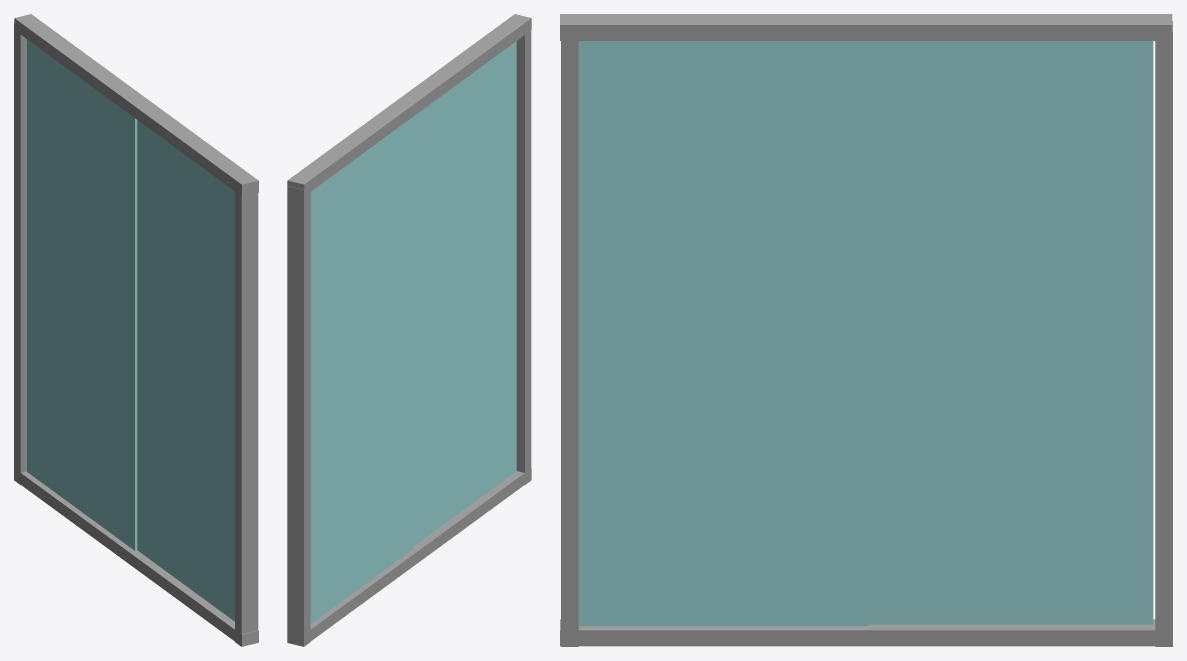
The model's file is window.fbx.
3 views of the same model, side by side, from view 1: azimuth 30°, elevation 25°; view 2: azimuth 150°, elevation 25°; view 3: azimuth 270°, elevation 25° (orthographic). The views are drawn at different scales.
Visible parts, largest first — view 1: Cube, Cube.001, Cube.003; view 2: Cube, Cube.001, Cube.003; view 3: Cube.001, Cube, Cube.003.
Boxes of the visible parts, left/top/right/bottom form: Cube: left=27, top=39, right=137, bottom=550; Cube.001: left=137, top=120, right=234, bottom=621; Cube.003: left=14, top=14, right=258, bottom=646; Cube: left=310, top=117, right=413, bottom=623; Cube.001: left=413, top=41, right=516, bottom=546; Cube.003: left=287, top=14, right=531, bottom=646; Cube.001: left=578, top=41, right=868, bottom=626; Cube: left=868, top=41, right=1153, bottom=624; Cube.003: left=560, top=14, right=1172, bottom=646.
Bounding box in the file's own units: 8.94 × 234 × 209.
